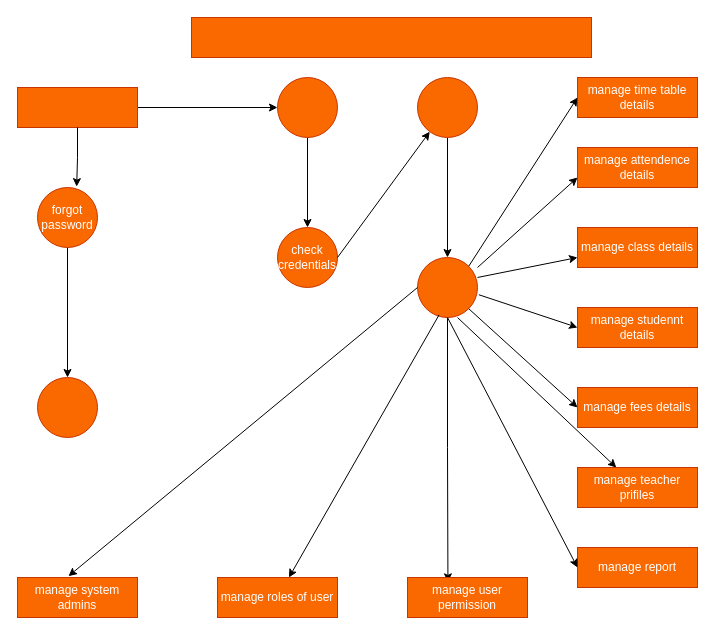
Image size: 715x635. Some labels were removed from this diagram. The shapes that lost their labels are listed below. From the top down, each one's box as (x1, y1, x2, y2) in pixels, then its label:
(190, 16, 592, 58): student information system
(16, 86, 138, 128): admin
(276, 76, 338, 138): login system
(416, 76, 478, 138): check roles of access
(416, 256, 478, 318): manage modules
(36, 376, 98, 438): send email to user
